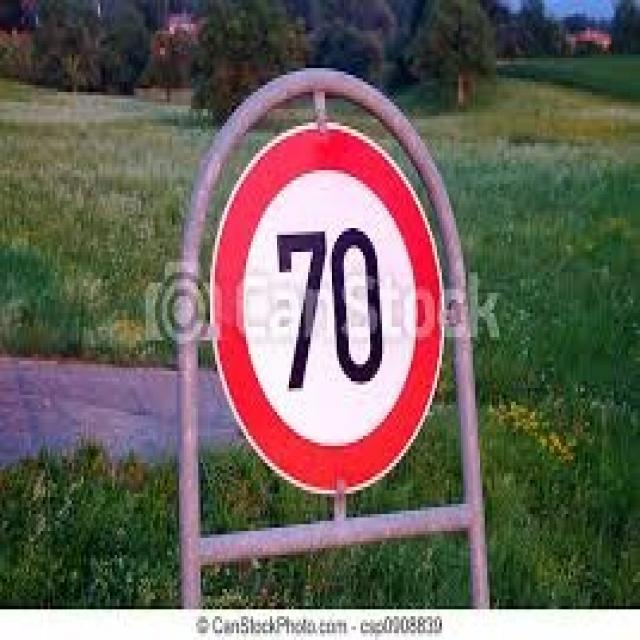speed_limit_70: (207, 112, 447, 494)
